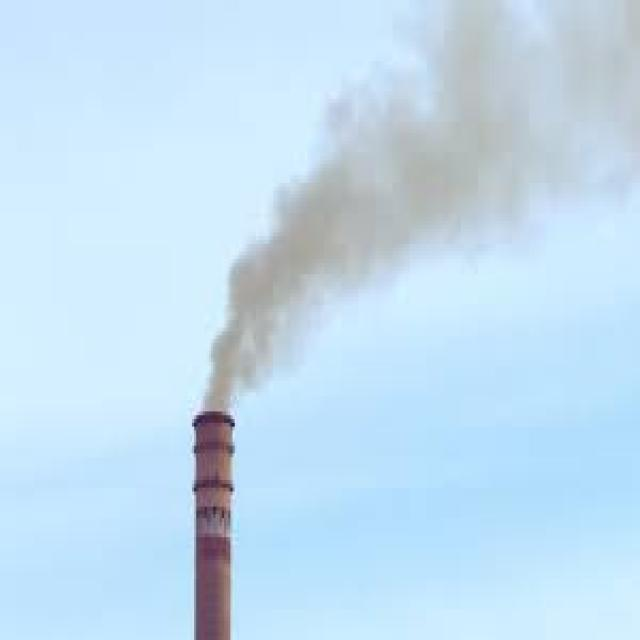Smoke: (203, 0, 640, 417)
